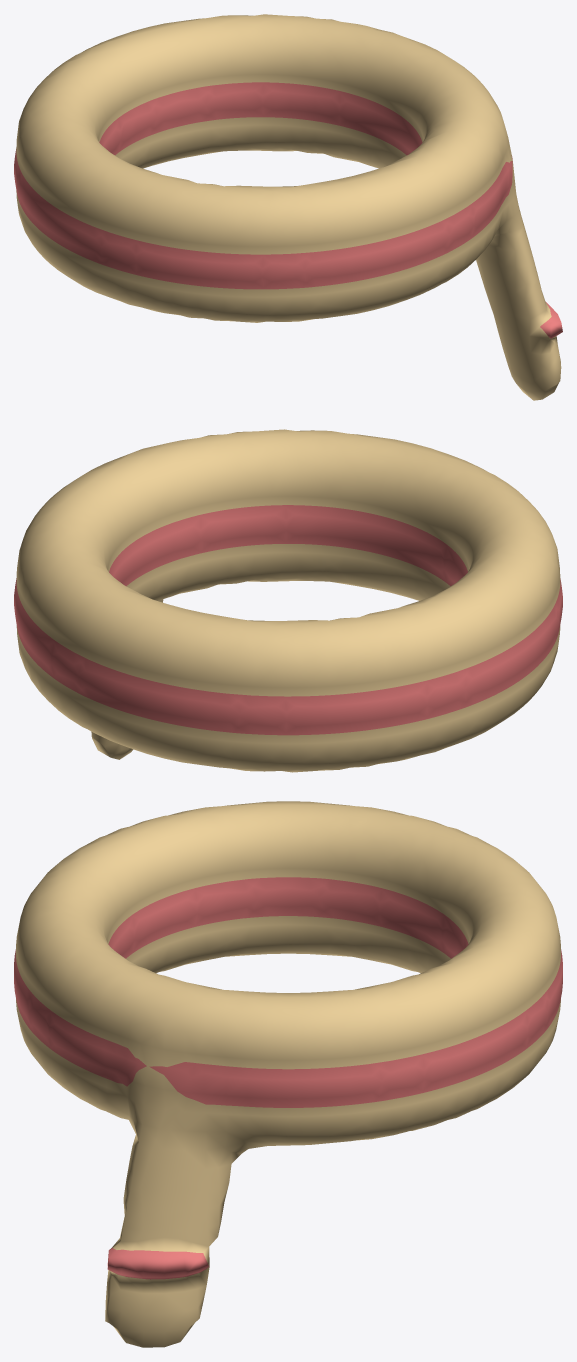
File: acc_scarf.glb
3 views of the same model, one above another, from view 1: azimuth 30°, elevation 25°; view 2: azimuth 150°, elevation 25°; view 3: azimuth 270°, elevation 25° (orthographic). The views are drawn at different scales.
Parts seen in each view (by area): view 1: body; view 2: body; view 3: body.
Part boxes in pixels (x1=…): body: x1=14, y1=14, x2=562, y2=400; body: x1=14, y1=429, x2=562, y2=772; body: x1=14, y1=801, x2=562, y2=1347.
Size of the model in its own units: 0.7526 by 0.4861 by 0.7252.
